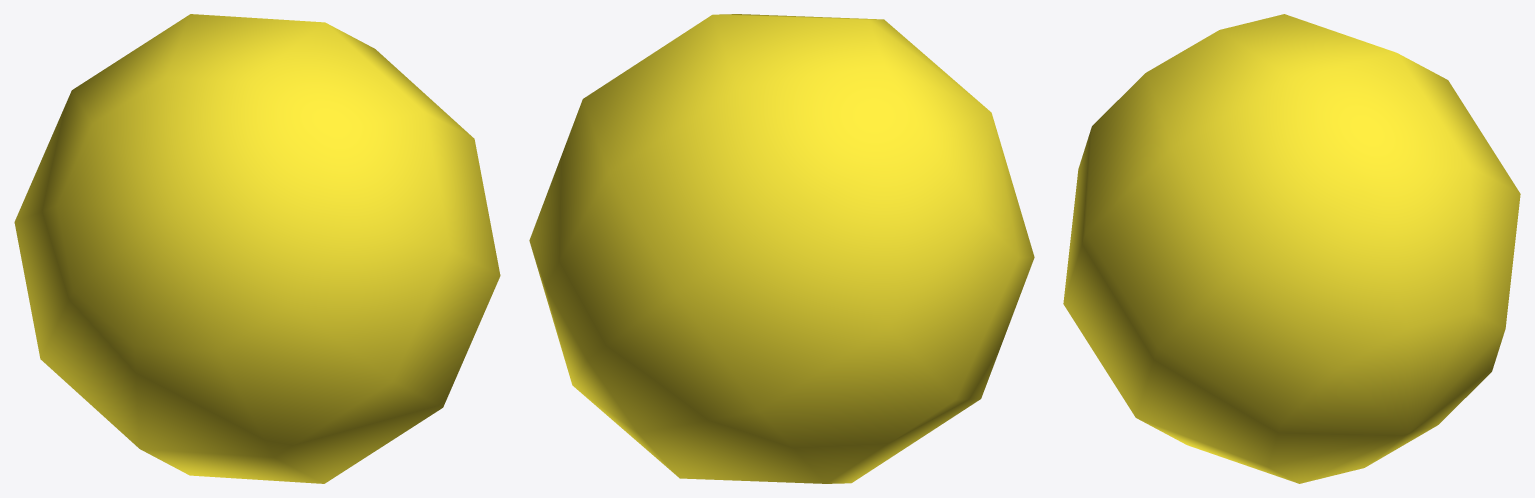
Rendered from M_Dogwanju01.FBX.
3 views of the same model, side by side, from view 1: azimuth 30°, elevation 25°; view 2: azimuth 150°, elevation 25°; view 3: azimuth 270°, elevation 25° (orthographic). The views are drawn at different scales.
Parts seen in each view (by area): view 1: M_Dogwanju01_01; view 2: M_Dogwanju01_01; view 3: M_Dogwanju01_01.
Part boxes in pixels (x1,y1,x2,y2): M_Dogwanju01_01: (14, 14, 500, 483); M_Dogwanju01_01: (529, 14, 1034, 483); M_Dogwanju01_01: (1063, 14, 1520, 483).
Bounding box in the file's own units: 0.199 × 0.1932 × 0.1981.
